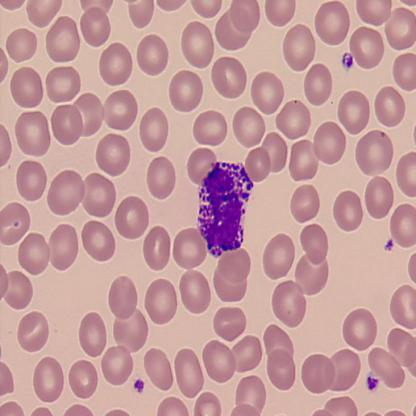Basophil: (193, 159, 255, 259)
